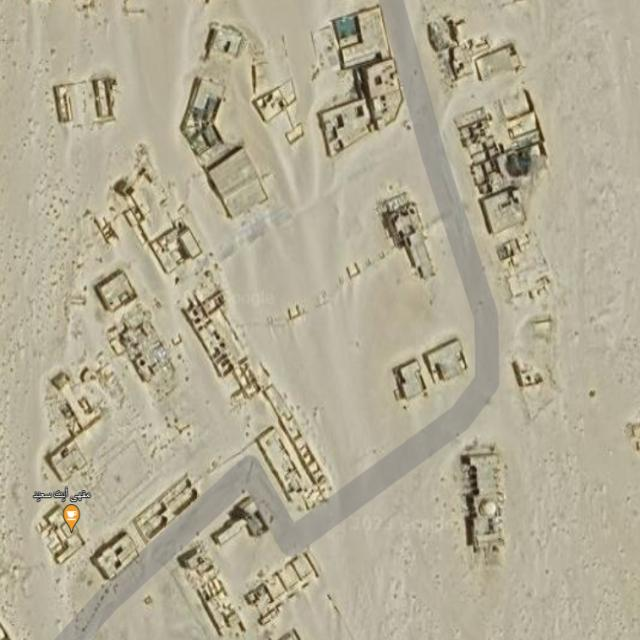Countryside roofs: (450, 442, 521, 558), (378, 184, 442, 278), (197, 151, 286, 218), (136, 464, 201, 544), (352, 59, 413, 137), (327, 6, 398, 71), (50, 64, 114, 134), (36, 490, 86, 569), (322, 95, 375, 154), (91, 519, 134, 588), (147, 215, 194, 277), (44, 428, 86, 489), (248, 76, 296, 126), (480, 190, 528, 240), (429, 338, 473, 388), (91, 268, 138, 312), (387, 356, 425, 396)
